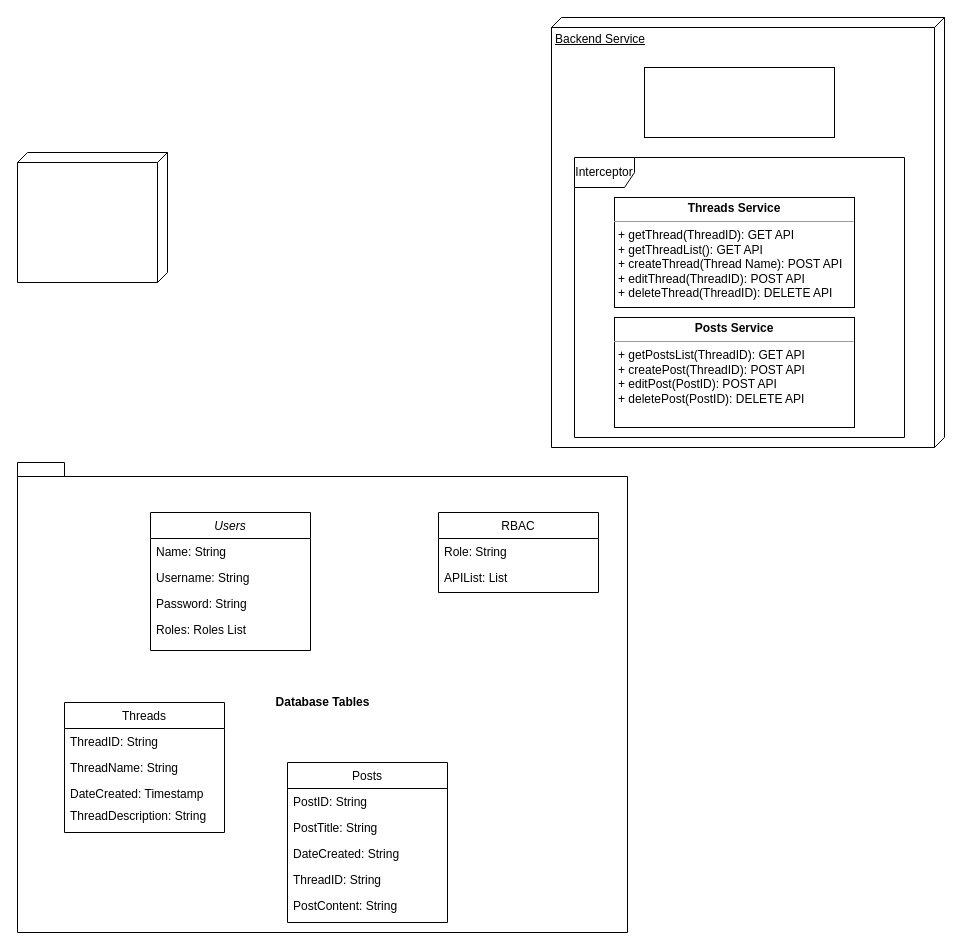
Image size: 962x950. Some labels were removed from this diagram. Each missing label, with the centre of its shape:
Frontend UI: [92,217]
Login Service + login(user, pass): POST API + register(user, pass): POST API: [739,102]
